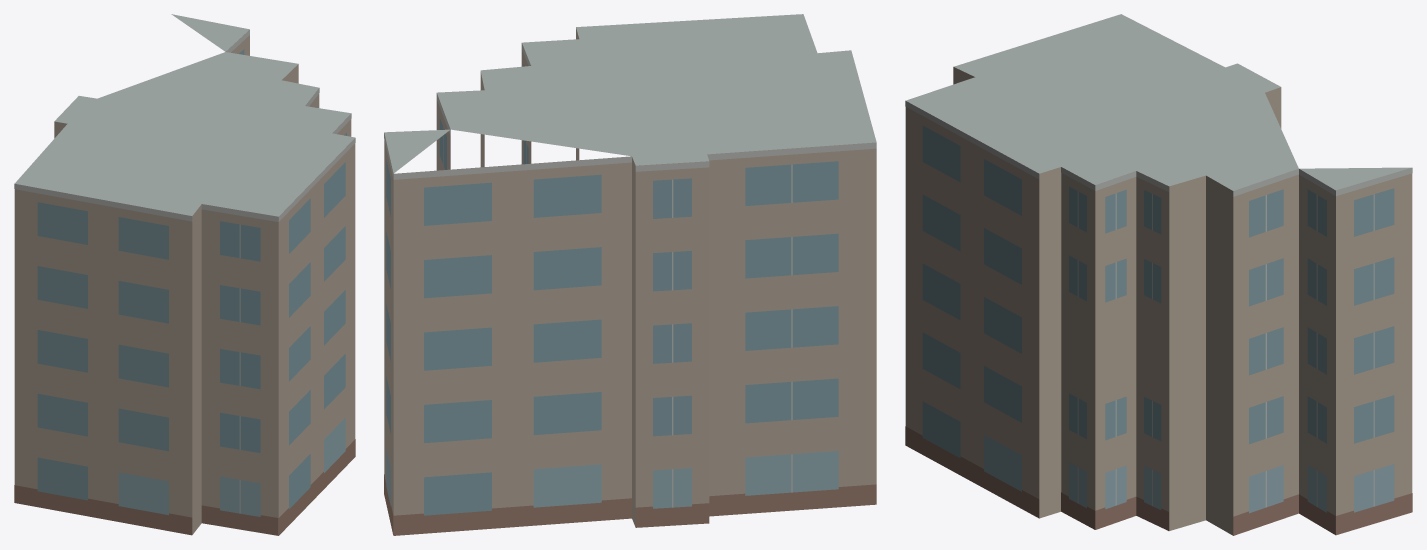
Rendered from survey-upis-32605636.glb.
The picture shows the model from 3 angles, left to right: view 1: azimuth 30°, elevation 25°; view 2: azimuth 150°, elevation 25°; view 3: azimuth 270°, elevation 25°; orthographic projection. The views are drawn at different scales.
Visible parts, largest first — view 1: survey-upis-32605636.tmp; view 2: survey-upis-32605636.tmp; view 3: survey-upis-32605636.tmp.
Boxes of the visible parts, left/top/right/bottom form: survey-upis-32605636.tmp: left=14, top=14, right=355, bottom=535; survey-upis-32605636.tmp: left=384, top=14, right=876, bottom=535; survey-upis-32605636.tmp: left=905, top=14, right=1412, bottom=535.
Size of the model in its own units: 15.87 by 14.4 by 19.19.
